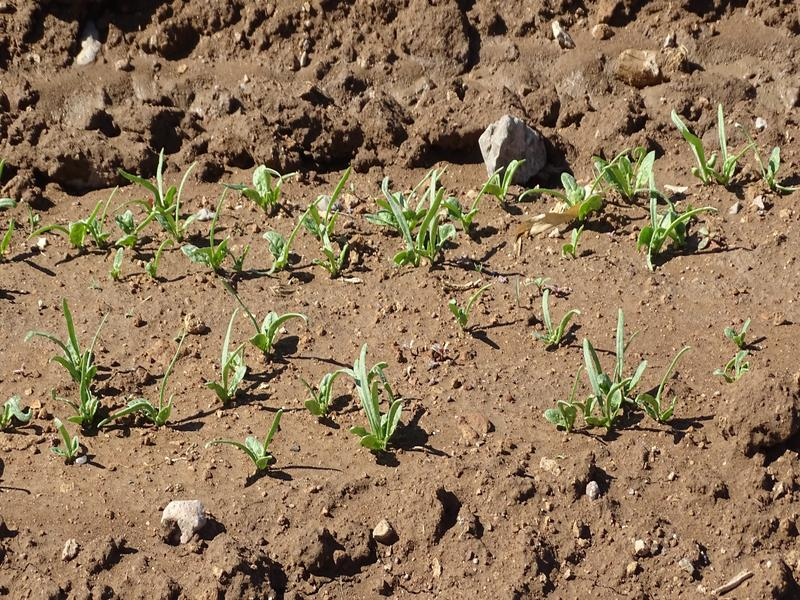Espinaca: (9, 168, 700, 268), (539, 297, 689, 428), (24, 323, 185, 441), (323, 349, 412, 451), (206, 302, 299, 381), (687, 101, 775, 179), (221, 414, 292, 483)
